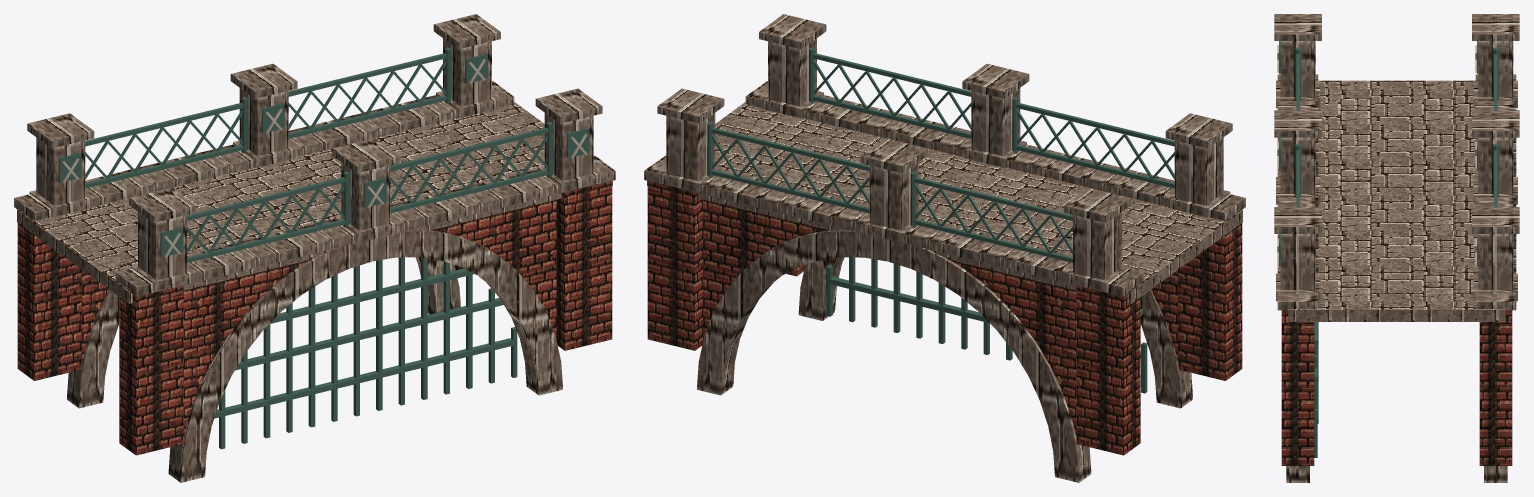
File: arch_bridge.glb
3 views of the same model, side by side, from view 1: azimuth 30°, elevation 25°; view 2: azimuth 150°, elevation 25°; view 3: azimuth 270°, elevation 25° (orthographic). The views are drawn at different scales.
Parts seen in each view (by area): view 1: arch_bridge_p9_stone, arch_bridge_p9_brick, arch_bridge_p9_iron, arch_bridge_p9_paving; view 2: arch_bridge_p9_stone, arch_bridge_p9_brick, arch_bridge_p9_paving, arch_bridge_p9_iron; view 3: arch_bridge_p9_paving, arch_bridge_p9_stone, arch_bridge_p9_brick, arch_bridge_p9_iron.
Part boxes in pixels (x1,y1,x2,y2): arch_bridge_p9_stone: (14, 14, 615, 482); arch_bridge_p9_brick: (17, 181, 612, 455); arch_bridge_p9_iron: (59, 47, 589, 449); arch_bridge_p9_paving: (17, 102, 612, 303); arch_bridge_p9_stone: (644, 14, 1245, 482); arch_bridge_p9_brick: (647, 181, 1242, 455); arch_bridge_p9_paving: (647, 102, 1242, 303); arch_bridge_p9_iron: (707, 47, 1174, 393); arch_bridge_p9_paving: (1288, 80, 1505, 321); arch_bridge_p9_stone: (1274, 14, 1519, 482); arch_bridge_p9_brick: (1281, 310, 1512, 465); arch_bridge_p9_iron: (1279, 41, 1498, 457).
Size of the model in its own units: 10 by 5.52 by 4.52.
4 materials, 3 textured.
